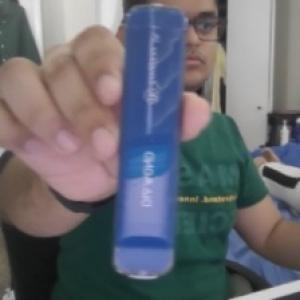Diamond-E-Ciggirate: (110, 4, 184, 283)
